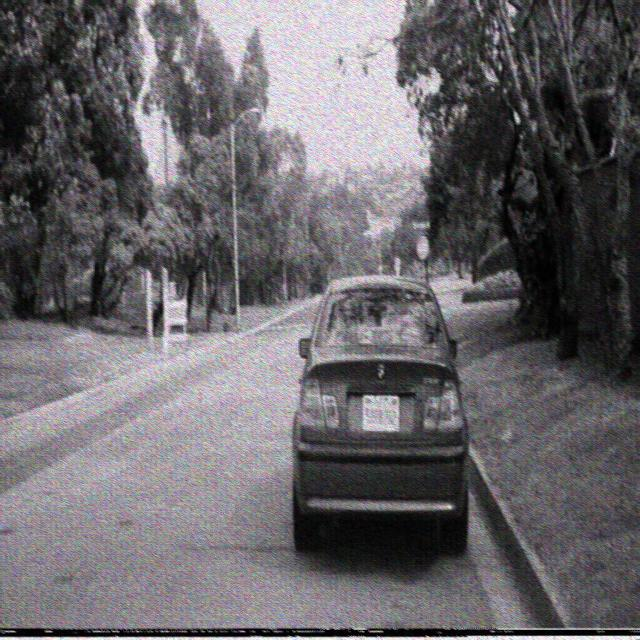stop: (416, 232, 430, 258)
